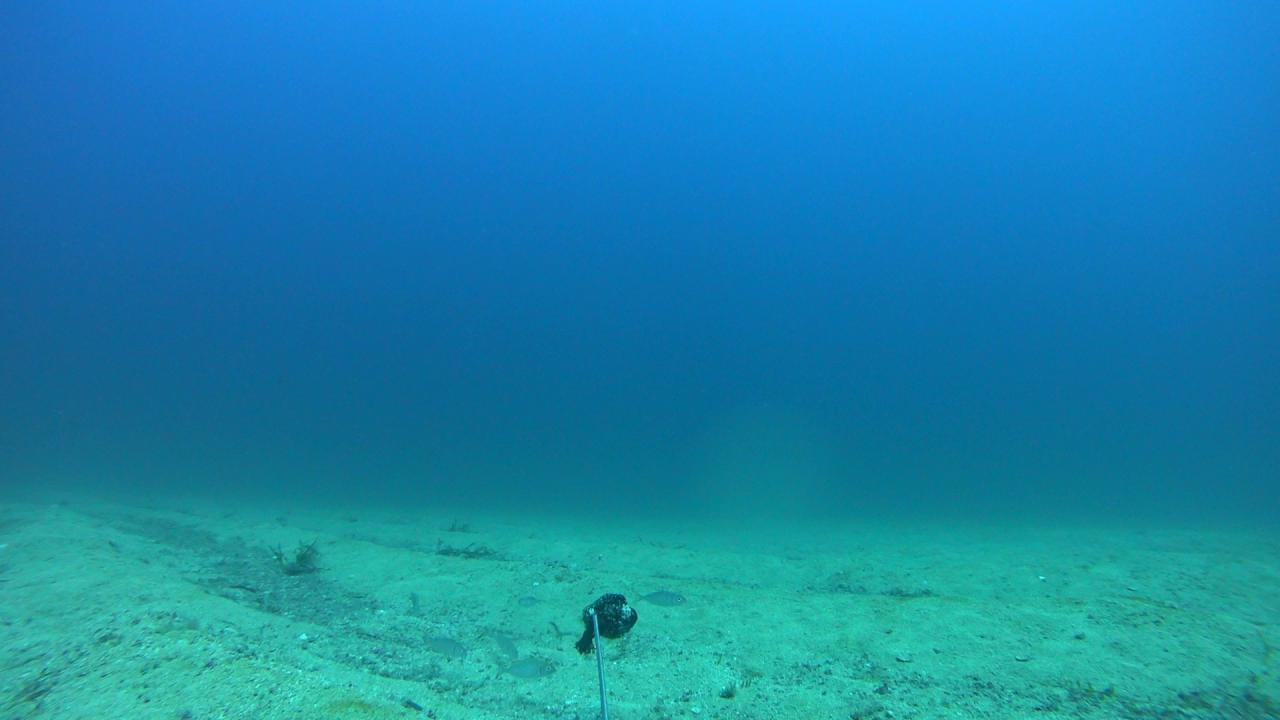pagellus: (494, 659, 557, 680), (478, 629, 519, 658), (631, 589, 685, 608), (422, 641, 466, 663), (512, 593, 545, 611)
